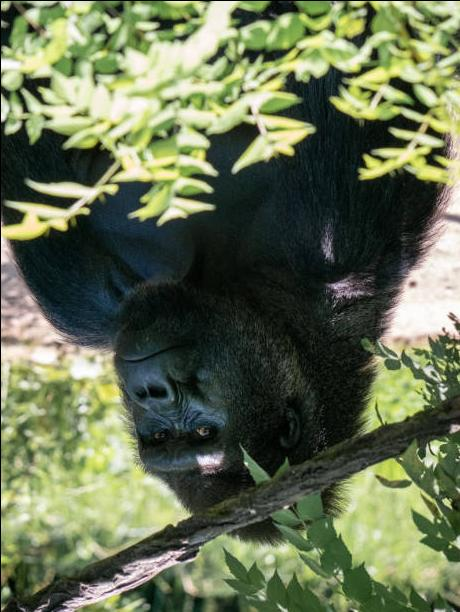gorille_Autres: (0, 92, 423, 580)
